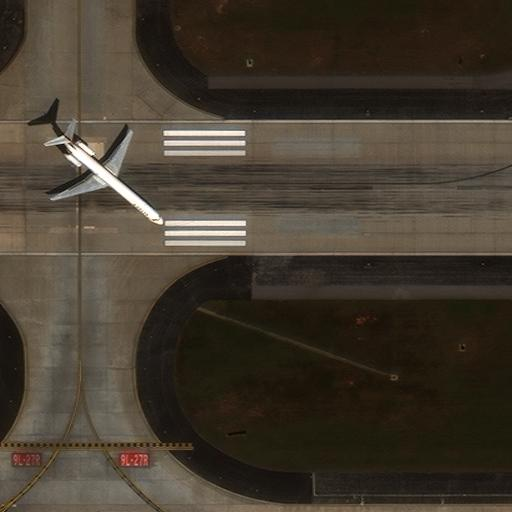Medium Civil Transport: (53, 133, 162, 224)
